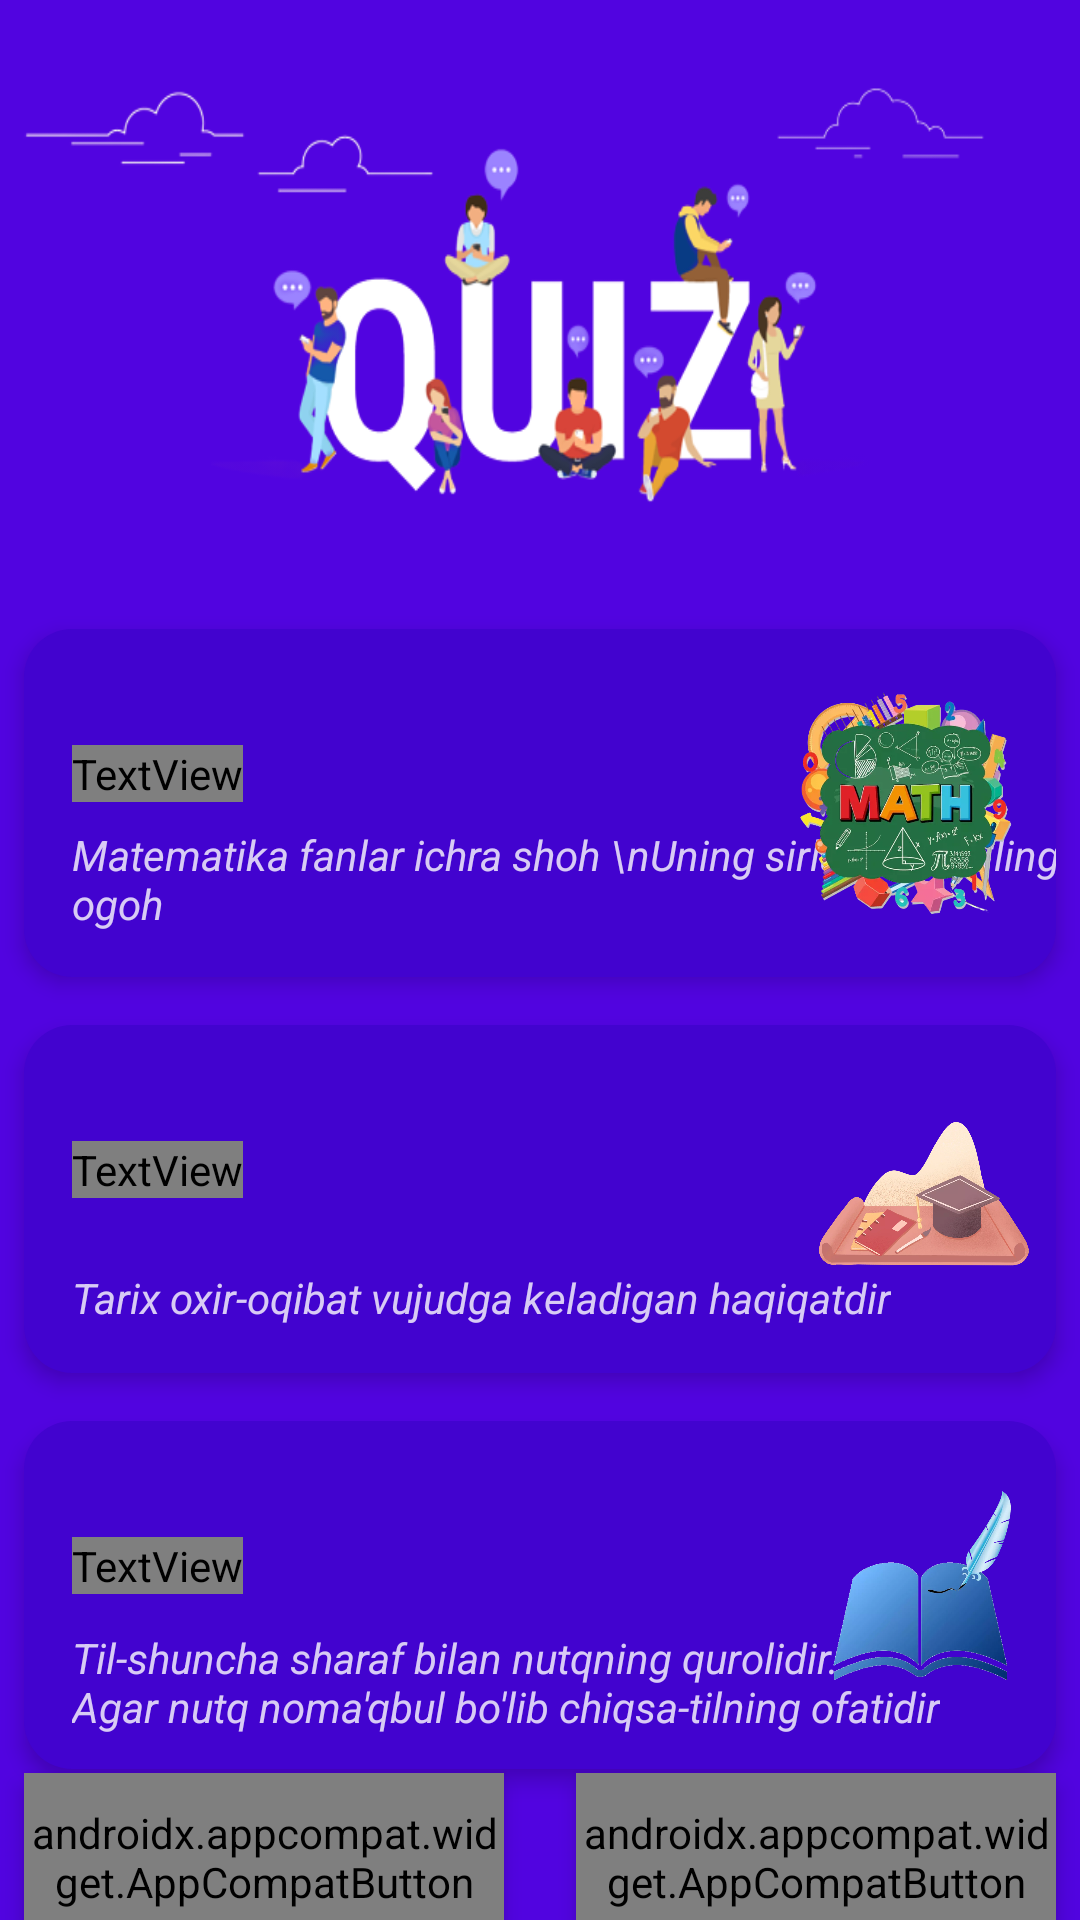

Icons on this 1080*1920 Android screen, each with the point to tap as [x,y]:
history: [919,1217]
mtongue: [910,1594]
